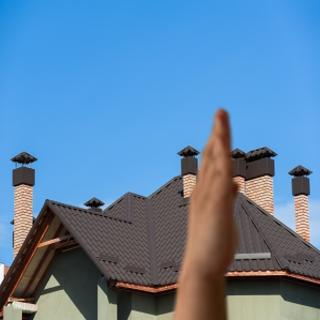RIGHT: (175, 103, 248, 286)
